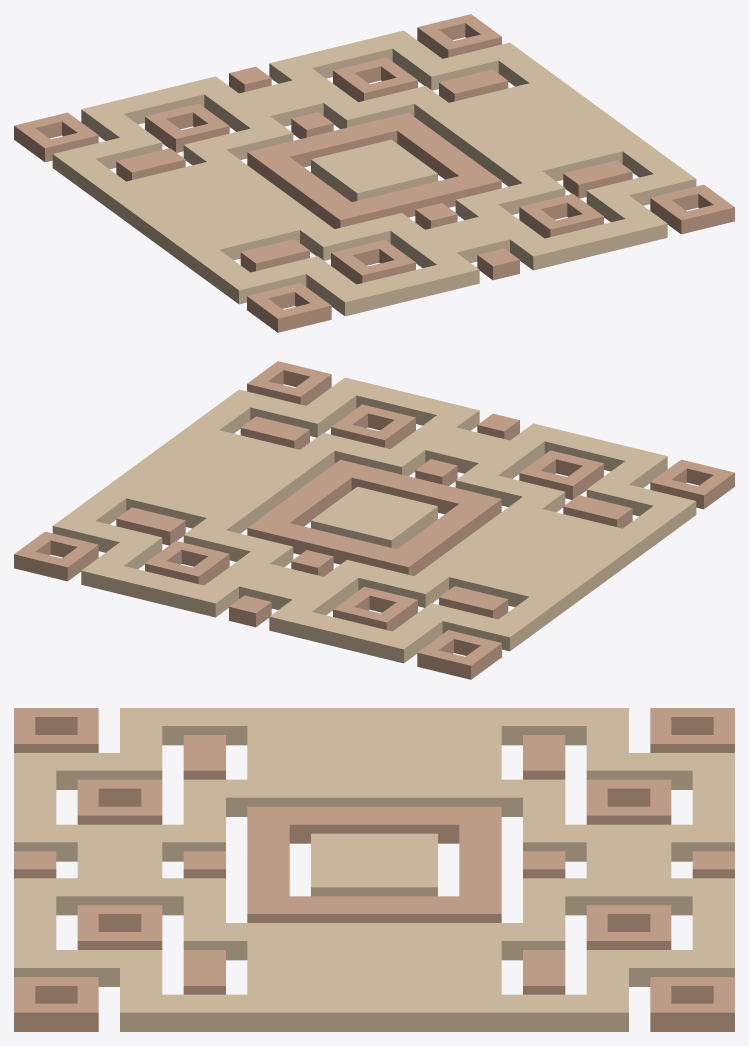
The model's file is BS_Ground_Portal.fbx.
The picture shows the model from 3 angles, top to bottom: view 1: azimuth 30°, elevation 25°; view 2: azimuth 150°, elevation 25°; view 3: azimuth 270°, elevation 25°; orthographic projection. The views are drawn at different scales.
Parts seen in each view (by area): view 1: BS_Ground_Portal; view 2: BS_Ground_Portal; view 3: BS_Ground_Portal.
Part boxes in pixels (<box>): BS_Ground_Portal: <box>14,14,734,332</box>; BS_Ground_Portal: <box>14,361,734,679</box>; BS_Ground_Portal: <box>14,708,734,1031</box>.
Size of the model in its own units: 85 by 85 by 2.5.
